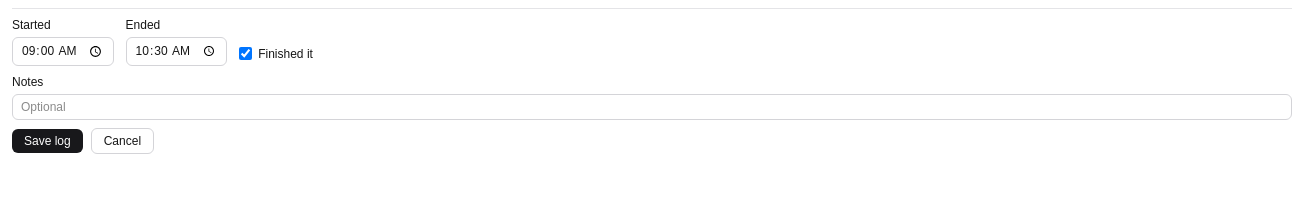
LogTimeForm › surfaces server errors and stays open
Click the button "Save log" at [47, 141], box top-left (12, 129), bottom-right (83, 153)
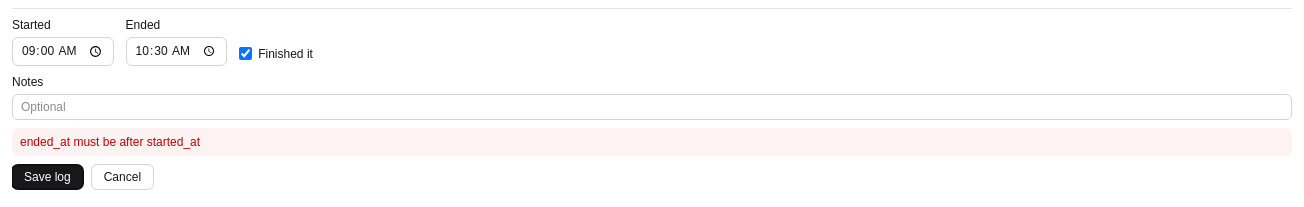
Now the message reads "ended_at must be after started_at", box top-left (20, 135), bottom-right (200, 149)
